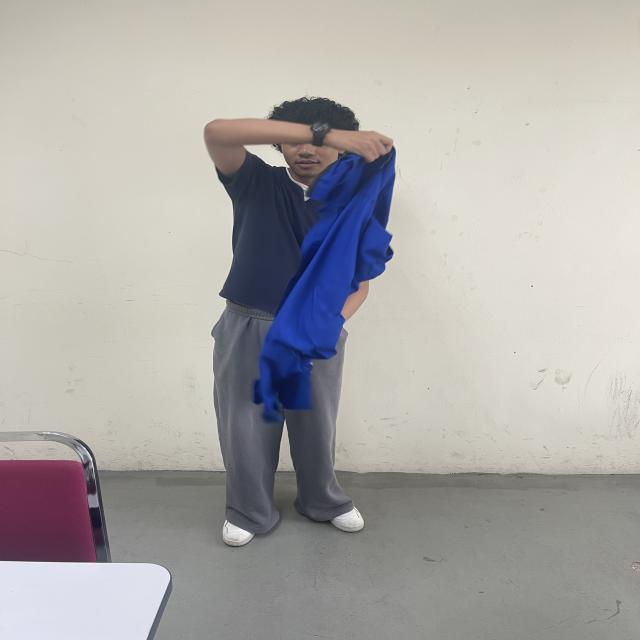person_without_labcoat: (204, 98, 395, 547)
